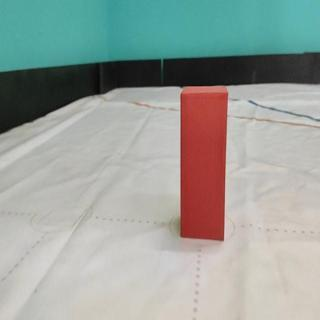redbox: (180, 88, 226, 240)
